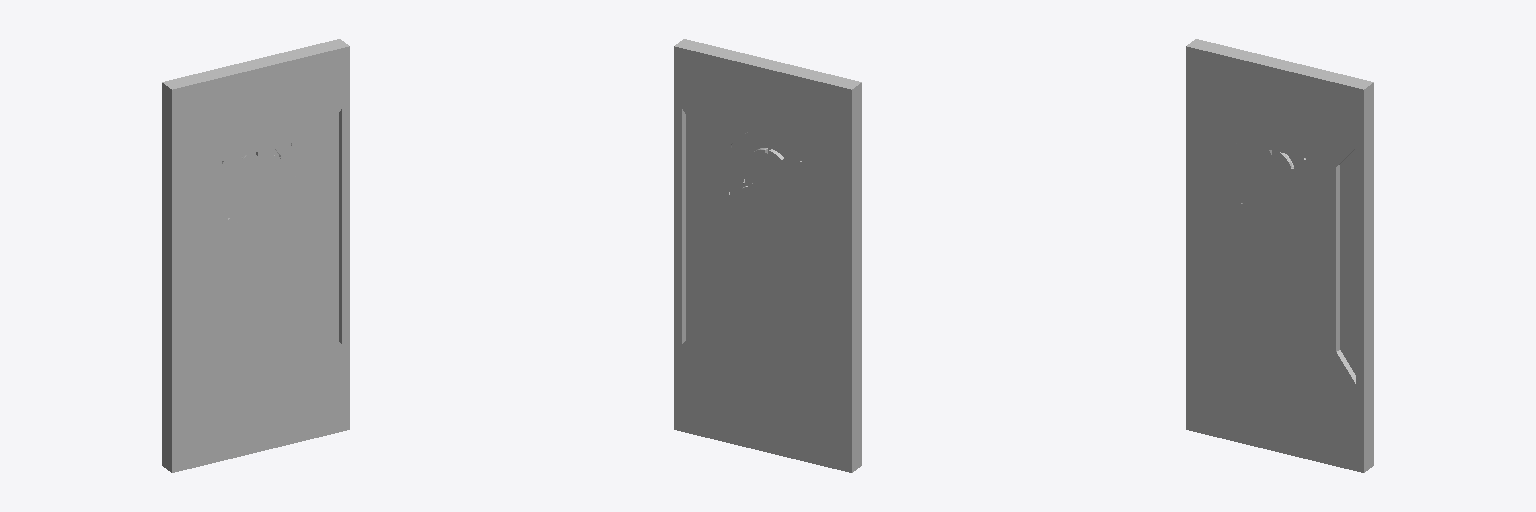
File: SCPDoor.obj
The picture shows the model from 3 angles: view 1: azimuth 30°, elevation 25°; view 2: azimuth 150°, elevation 25°; view 3: azimuth 330°, elevation 25°; orthographic projection.
Parts seen in each view (by area): view 1: Cube.001; view 2: Cube.001; view 3: Cube.001.
Boxes of the visible parts, x1,y1,x2,y2 form: Cube.001: [162, 39, 349, 472]; Cube.001: [674, 39, 861, 472]; Cube.001: [1186, 39, 1373, 472].
Bounding box in the file's own units: 2.87 × 5.91 × 0.2848.